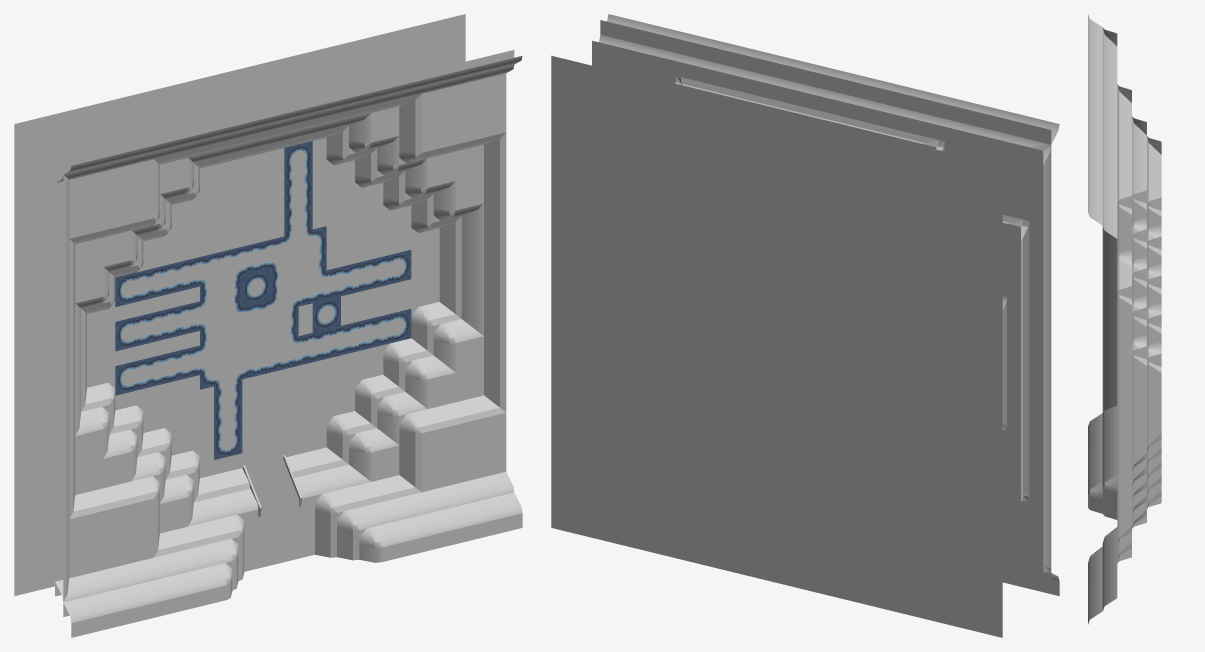
Rendered from Voltic-Cave_07_05.obj.
The picture shows the model from 3 angles, left to right: view 1: azimuth 30°, elevation 25°; view 2: azimuth 150°, elevation 25°; view 3: azimuth 270°, elevation 25°; orthographic projection. The views are drawn at different scales.
Parts seen in each view (by area): view 1: map; view 2: map; view 3: map.
Boxes of the visible parts, x1=… form: map: x1=14, y1=14, x2=522, y2=637; map: x1=551, y1=14, x2=1059, y2=637; map: x1=1088, y1=14, x2=1161, y2=624.
Size of the model in its own units: 32 by 32 by 7.
